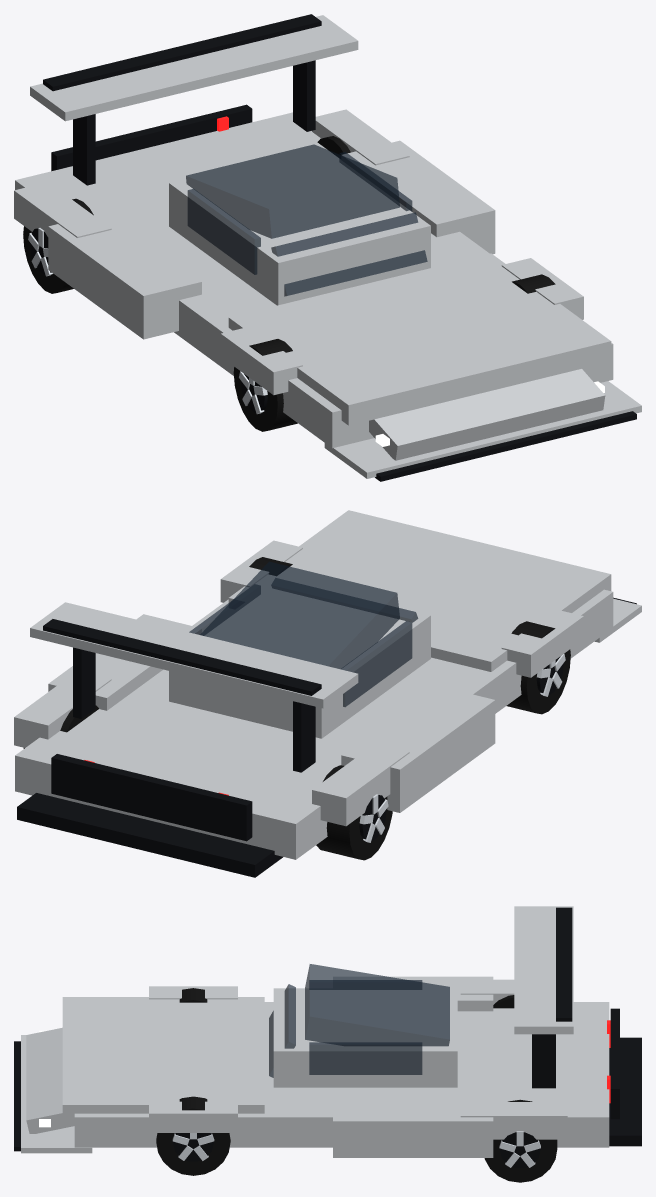
File: king-egg-kraken.glb
3 renders of one model, top to bottom at view 1: azimuth 30°, elevation 25°; view 2: azimuth 150°, elevation 25°; view 3: azimuth 270°, elevation 25°, orthographic. The views are drawn at different scales.
Parts seen in each view (by area): view 1: chassis, glass (×2), wheel-front-left, wheel-back-left; view 2: chassis, glass (×2), wheel-back-left, wheel-front-left; view 3: chassis, glass (×2), wheel-front-right, wheel-back-right.
Part boxes in pixels (<box>): chassis: <box>14,14,641,481</box>; glass (×2): <box>186,144,427,296</box>; wheel-front-left: <box>233,339,297,431</box>; wheel-back-left: <box>23,198,93,293</box>; chassis: <box>14,510,641,877</box>; glass (×2): <box>200,561,417,668</box>; wheel-back-left: <box>316,765,392,860</box>; wheel-front-left: <box>506,621,570,714</box>; chassis: <box>14,906,641,1157</box>; glass (×2): <box>269,964,449,1077</box>; wheel-front-right: <box>156,1096,230,1175</box>; wheel-back-right: <box>484,1099,557,1182</box>.
Size of the model in its own units: 2.88 by 1.42 by 5.28.
